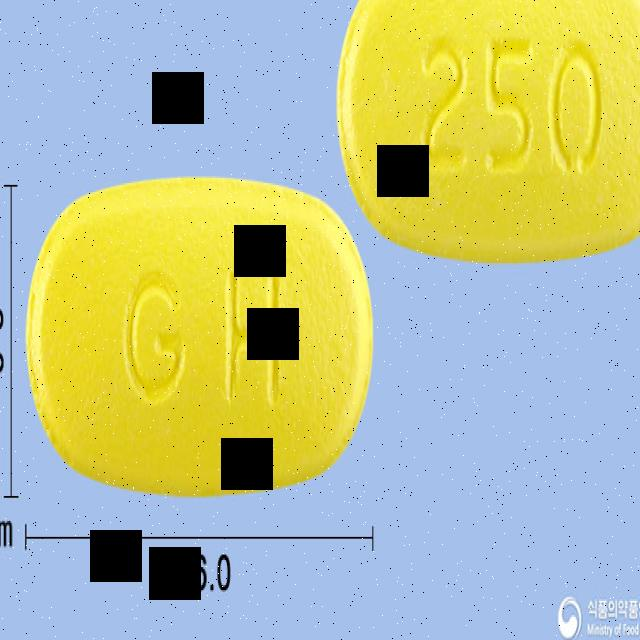Clana: (22, 168, 380, 504), (335, 0, 640, 270)
